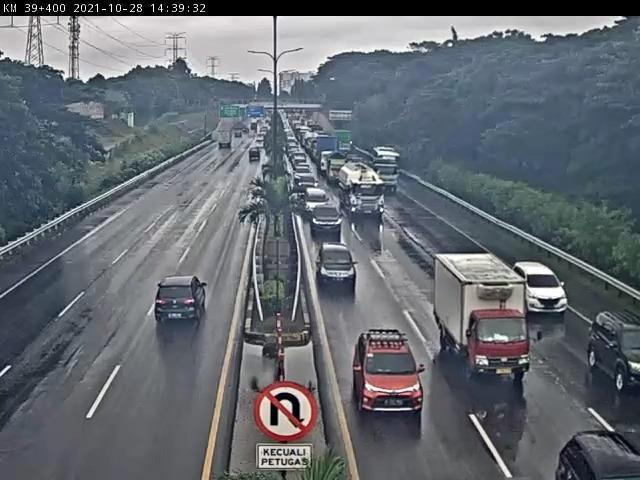car: (348, 321, 432, 429), (577, 299, 640, 412), (145, 265, 231, 343), (512, 257, 579, 319), (314, 238, 356, 297), (306, 200, 345, 238), (243, 146, 267, 165)
truck: (430, 249, 537, 387), (335, 163, 389, 229), (370, 156, 400, 194), (210, 127, 240, 153)
